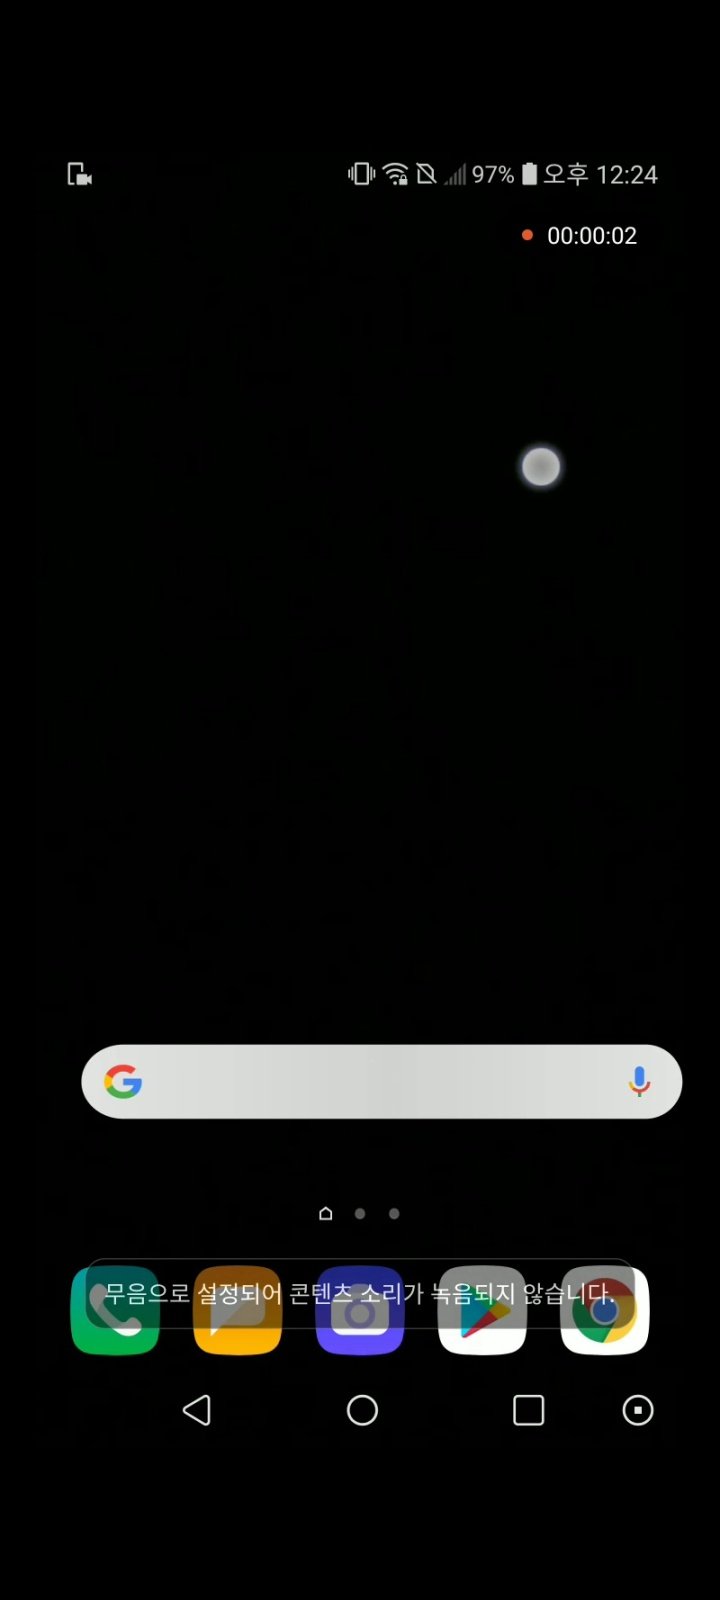Cursor: (520, 446, 565, 491)
